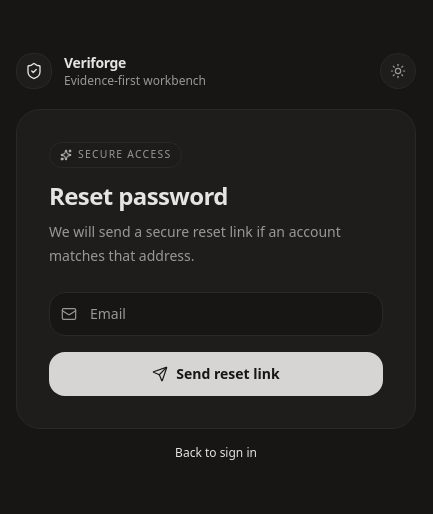
Test: ForgotPasswordPage › shows an error and keeps the form when the request fails
The width and height of the screenshot is (433, 514).
Type "someone@example.com" into the field labelled "Email".
click(216, 314); type("someone@example.com")  # box [49,292,383,336]
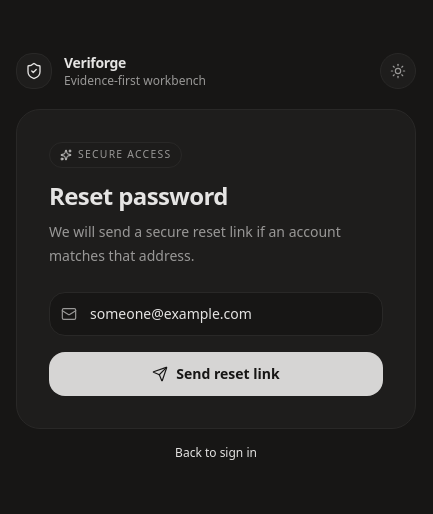
Click the button "Send reset link".
click(216, 374)  # box [49,352,383,396]
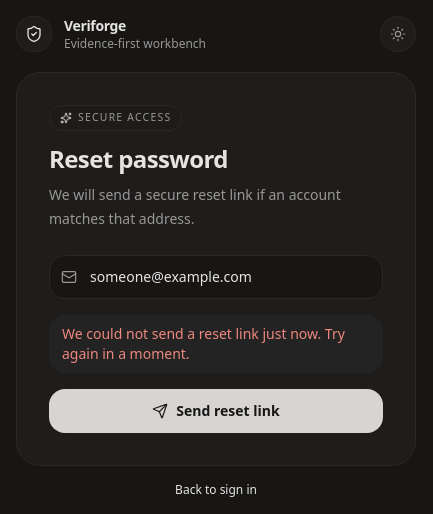
Expected: the message "We could not send a reset link just now. Try again in a moment." is shown, [49,315,383,373]
